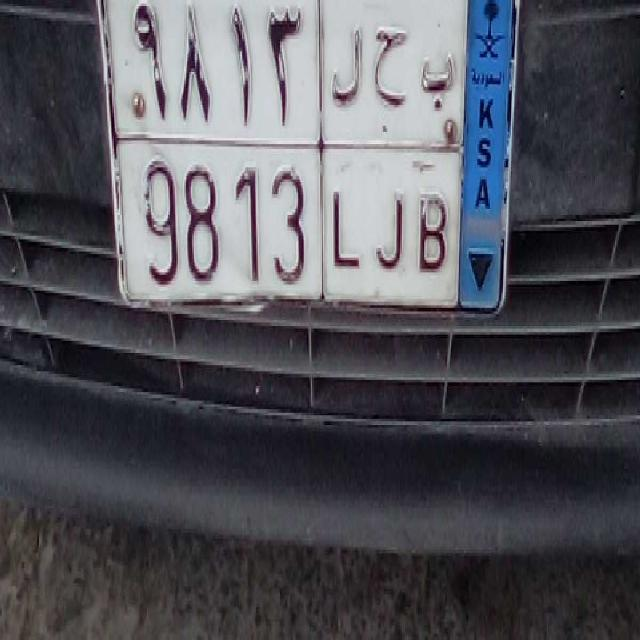license_plate: (122, 138, 453, 314)
